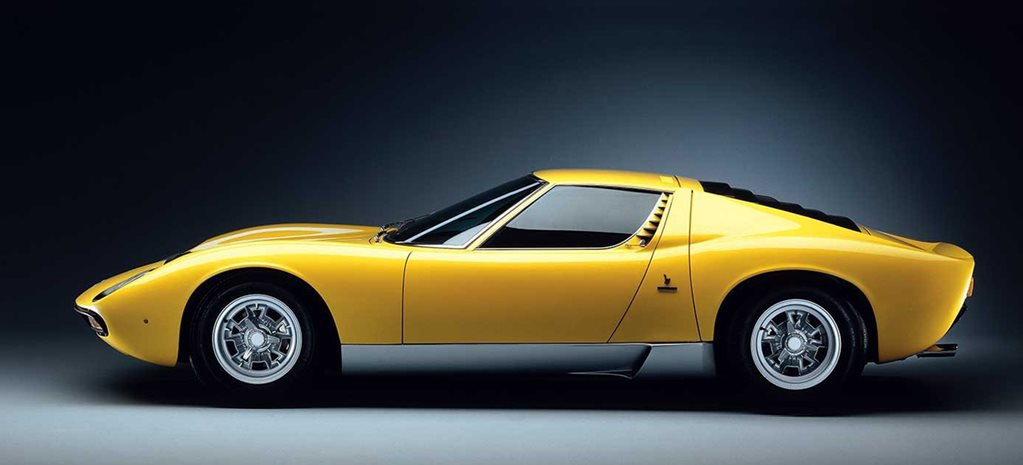car: (73, 167, 976, 415)
